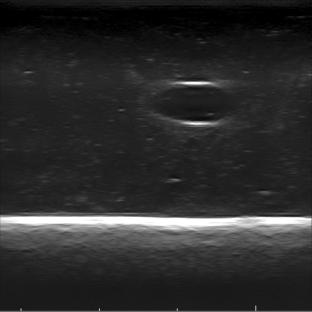vessel: (151, 80, 237, 128)
